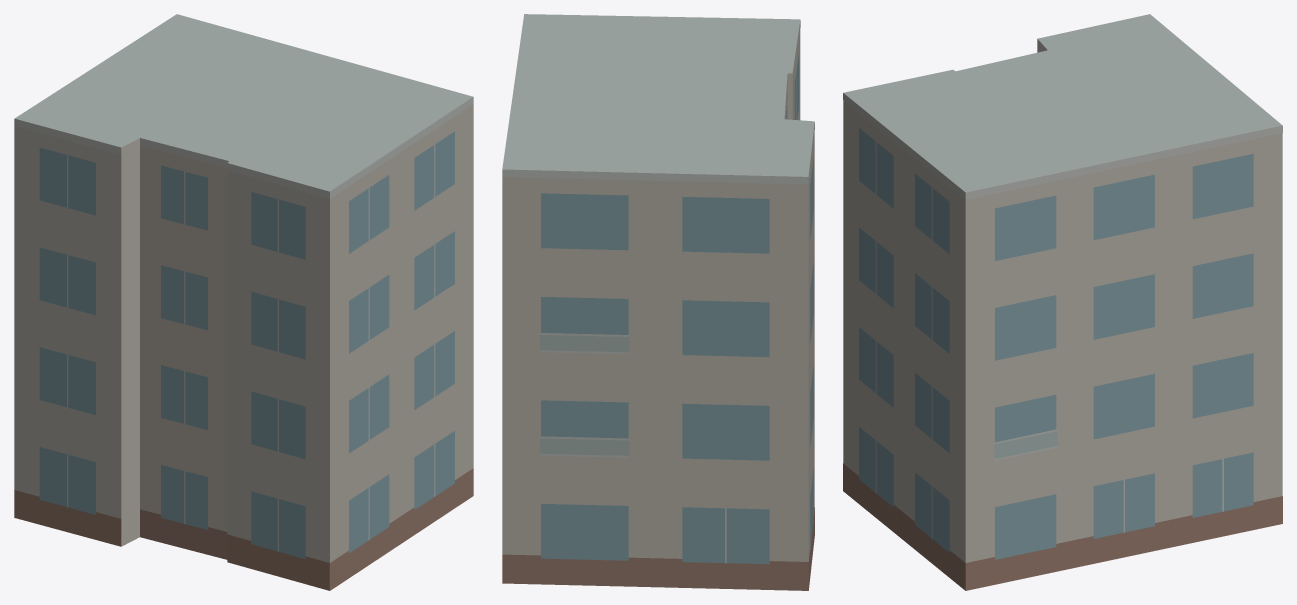
Rendered from survey-upis-32706727.glb.
3 views of the same model, side by side, from view 1: azimuth 30°, elevation 25°; view 2: azimuth 150°, elevation 25°; view 3: azimuth 270°, elevation 25° (orthographic). The views are drawn at different scales.
Visible parts, largest first — view 1: survey-upis-32706727.tmp; view 2: survey-upis-32706727.tmp; view 3: survey-upis-32706727.tmp.
Part boxes in pixels (box(x1,y1,x2,y2)): survey-upis-32706727.tmp: box(14, 14, 473, 590); survey-upis-32706727.tmp: box(502, 14, 814, 590); survey-upis-32706727.tmp: box(843, 14, 1282, 590).
Size of the model in its own units: 12.75 by 13.25 by 13.26.
